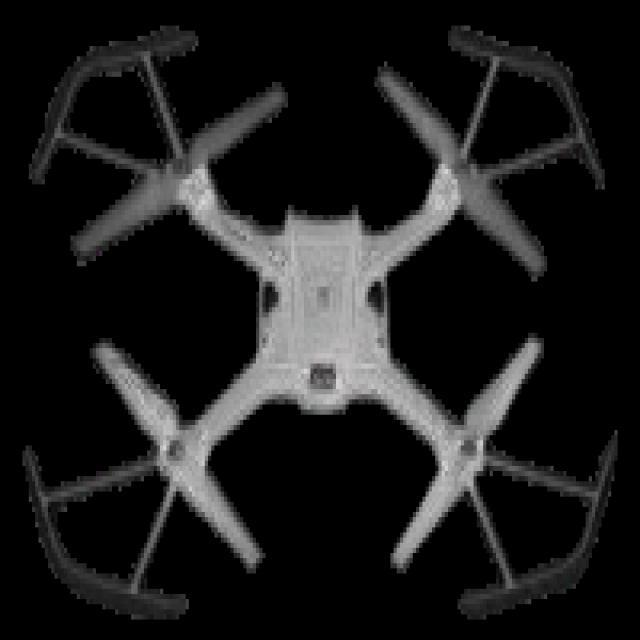drone: (24, 16, 628, 622)
